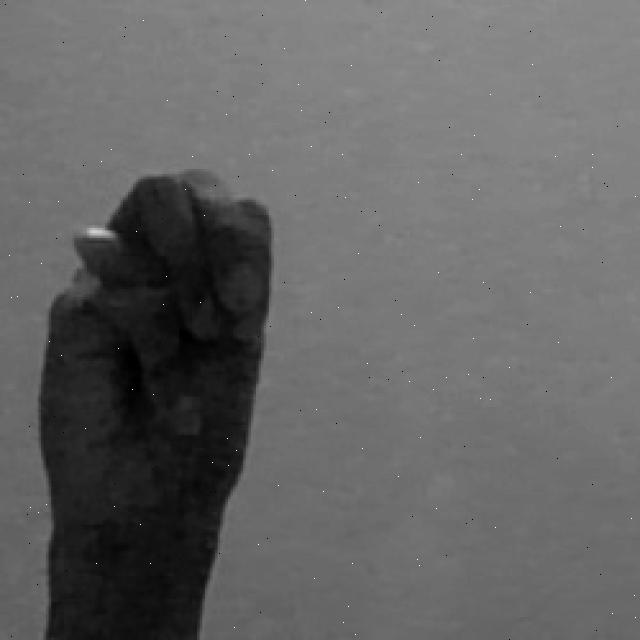M: (30, 163, 270, 640)
